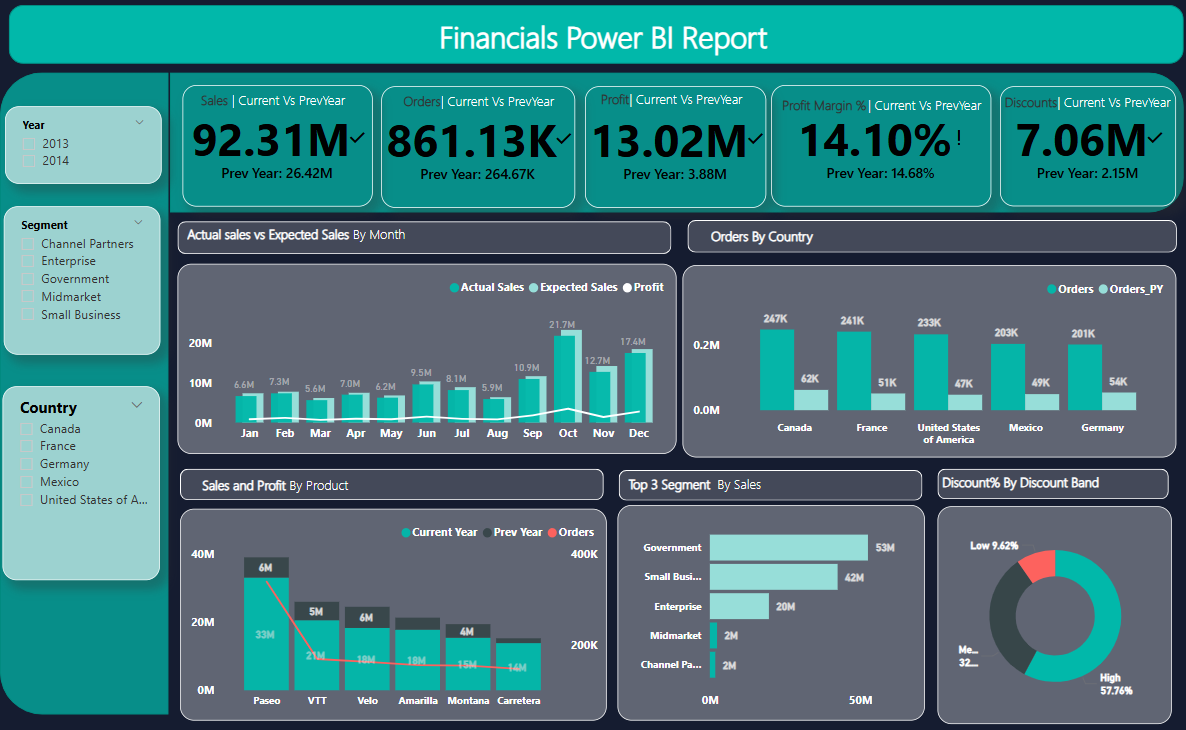

The page's visual inventory and layout, read from the dashboard file:
{"tool":"powerbi","page":{"name":"Page 1","canvas":[1280,800],"ordinal":0},"visuals":[{"type":"shape","box":[0,83.1,181,689],"z":0},{"type":"shape","box":[182.3,83.1,1087.1,150.1],"z":1000},{"type":"slicer","fields":{"Values":["Date Table.Year"]},"box":[5,119.8,167.7,83.2],"z":2000},{"type":"slicer","fields":{"Values":["financials.Segment"]},"box":[4.2,227.2,167.7,159.3],"z":3000},{"type":"kpi","fields":{"Indicator":["All Measures Table.Sales"],"Goal":["All Measures Table.Sales_PY"],"TrendLine":["Date Table.Year"]},"box":[195.7,96.5,203.8,130],"z":4000},{"type":"kpi","fields":{"Indicator":["All Measures Table.Orders"],"Goal":["All Measures Table.Orders_PY"],"TrendLine":["Date Table.Year"]},"box":[408.8,97.9,207.8,130],"z":5000},{"type":"kpi","fields":{"TrendLine":["Date Table.Year"],"Indicator":["All Measures Table.Profit"],"Goal":["All Measures Table.Profit_PY"]},"box":[627.3,97.9,194.4,130],"z":6000},{"type":"kpi","fields":{"TrendLine":["Date Table.Year"],"Indicator":["All Measures Table.Profit Margin %"],"Goal":["All Measures Table.Profit Margin %_PY"]},"box":[827.1,96.5,235.9,130],"z":7000},{"type":"kpi","fields":{"TrendLine":["Date Table.Year"],"Indicator":["All Measures Table.Discounts"],"Goal":["All Measures Table.Discounts_PY"]},"box":[1072.4,97.9,189,128.7],"z":8000},{"type":"lineClusteredColumnComboChart","fields":{"Y":["All Measures Table.Sales","Sum(financials.Gross Sales)"],"Category":["Date Table.Month Name"],"Y2":["All Measures Table.Profit"]},"box":[190.8,288.7,535.2,204.4],"z":9000},{"type":"clusteredColumnChart","fields":{"Category":["financials.Country"],"Y":["All Measures Table.Orders","All Measures Table.Orders_PY"]},"box":[732.5,289.4,529.6,206.8],"z":10000},{"type":"lineStackedColumnComboChart","fields":{"Category":["financials.Product"],"Y":["All Measures Table.Sales","All Measures Table.Sales_PY"],"Y2":["Sum(financials.Units Sold)"]},"box":[193.7,550.5,458,226.8],"z":11000},{"type":"clusteredBarChart","fields":{"Category":["financials.Segment"],"Y":["All Measures Table.Sales"]},"box":[662.5,547.1,329.4,231.4],"z":12000},{"type":"donutChart","fields":{"Category":["financials.Discount Band"],"Y":["Sum(financials.Discounts)"]},"box":[1005.1,548.5,250.9,233.6],"z":13000},{"type":"textbox","box":[210.1,98.1,197.9,44.6],"z":14000},{"type":"textbox","box":[427.2,99.3,189.4,44.6],"z":15000},{"type":"textbox","box":[639.6,96.9,188.2,44.6],"z":16000},{"type":"textbox","box":[833.8,103.2,238.6,41.6],"z":17000},{"type":"textbox","box":[1072.9,100.2,196.6,44.6],"z":18000},{"type":"shape","box":[190.8,242.4,529.6,35.5],"z":19000},{"type":"shape","box":[737.3,241.6,524.8,35],"z":20000},{"type":"shape","box":[193.2,508.3,454.3,33.8],"z":21000},{"type":"shape","box":[663.7,509.2,325.7,32.8],"z":22000},{"type":"shape","box":[1005.4,508.3,248.3,32.6],"z":23000},{"type":"textbox","box":[196.3,241.1,305.2,49.5],"z":24000},{"type":"textbox","box":[758,244.5,305.2,49.5],"z":25000},{"type":"textbox","box":[211.3,510.9,305.2,51.9],"z":26000},{"type":"textbox","box":[668.5,509.2,305.2,48.5],"z":27000},{"type":"textbox","box":[1005.1,507.8,275.1,49.5],"z":28000},{"type":"shape","box":[9.4,10.7,1260.1,63],"z":29000},{"type":"textbox","box":[40.2,17.4,1213.1,56.3],"z":30000},{"type":"slicer","fields":{"Values":["financials.Country"]},"box":[2.7,419.6,168.9,207.8],"z":30001}]}

Visuals, with their boxes in screenshot pixels (x1, y1, x2, y2), scaled from the page's 1280x800 canvas onto the 1186x730 screenshot:
shape: 0, 76, 168, 705
shape: 169, 76, 1176, 213
slicer - Date Table.Year: 5, 109, 160, 185
slicer - financials.Segment: 4, 207, 159, 353
kpi - All Measures Table.Sales x All Measures Table.Sales_PY: 181, 88, 370, 207
kpi - All Measures Table.Orders x All Measures Table.Orders_PY: 379, 89, 571, 208
kpi - Date Table.Year x All Measures Table.Profit: 581, 89, 761, 208
kpi - Date Table.Year x All Measures Table.Profit Margin %: 766, 88, 985, 207
kpi - Date Table.Year x All Measures Table.Discounts: 994, 89, 1169, 207
lineClusteredColumnComboChart - All Measures Table.Sales x Sum(financials.Gross Sales): 177, 263, 673, 450
clusteredColumnChart - financials.Country x All Measures Table.Orders: 679, 264, 1169, 453
lineStackedColumnComboChart - financials.Product x All Measures Table.Sales: 179, 502, 604, 709
clusteredBarChart - financials.Segment x All Measures Table.Sales: 614, 499, 919, 710
donutChart - financials.Discount Band x Sum(financials.Discounts): 931, 501, 1164, 714
textbox: 195, 90, 378, 130
textbox: 396, 91, 571, 131
textbox: 593, 88, 767, 129
textbox: 773, 94, 994, 132
textbox: 994, 91, 1176, 132
shape: 177, 221, 667, 254
shape: 683, 220, 1169, 252
shape: 179, 464, 600, 495
shape: 615, 465, 917, 495
shape: 932, 464, 1162, 494
textbox: 182, 220, 465, 265
textbox: 702, 223, 985, 268
textbox: 196, 466, 479, 514
textbox: 619, 465, 902, 509
textbox: 931, 463, 1185, 509
shape: 9, 10, 1176, 67
textbox: 37, 16, 1161, 67
slicer - financials.Country: 3, 383, 159, 573
